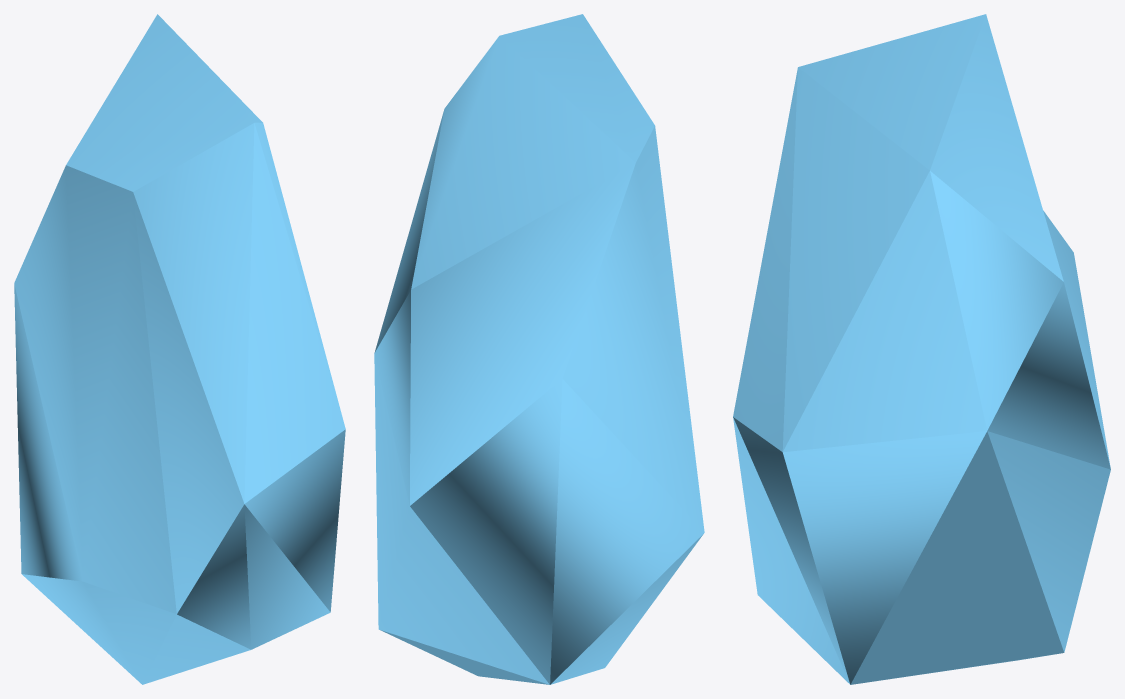
File: PROP_Ice_Rock04.FBX
3 views of the same model, side by side, from view 1: azimuth 30°, elevation 25°; view 2: azimuth 150°, elevation 25°; view 3: azimuth 270°, elevation 25° (orthographic). The views are drawn at different scales.
Parts seen in each view (by area): view 1: PROP_Ice_Rock04; view 2: PROP_Ice_Rock04; view 3: PROP_Ice_Rock04.
Part boxes in pixels (left/top/right/bottom): PROP_Ice_Rock04: left=14, top=14, right=345, bottom=684; PROP_Ice_Rock04: left=374, top=14, right=704, bottom=684; PROP_Ice_Rock04: left=733, top=14, right=1110, bottom=684.
Size of the model in its own units: 192 by 448 by 231.
Materials: 1 (1 with a texture image).
